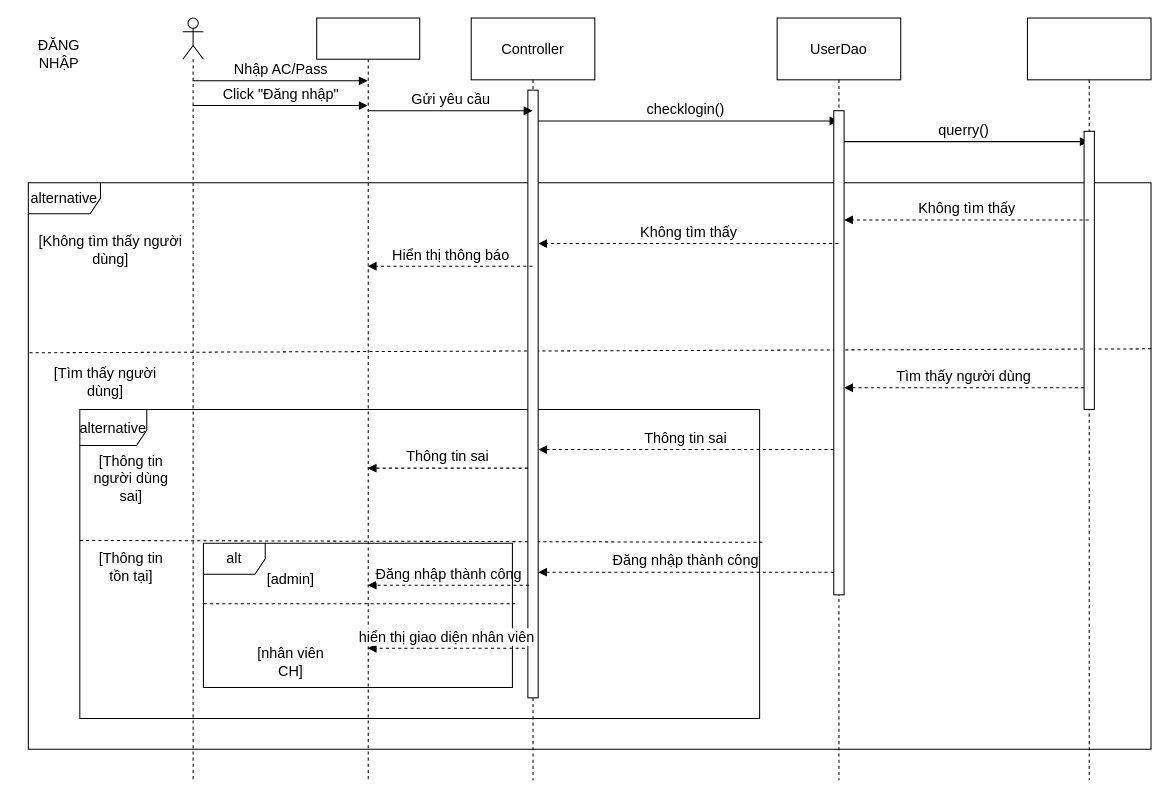
The diagram is 1172 pixels wide and 798 high, and some of its shapes have lost their labels. Here are the shapes that lost their labels. From the top down, the box of each, then its label:
(316, 17, 420, 780): View
(1026, 17, 1151, 780): Database
